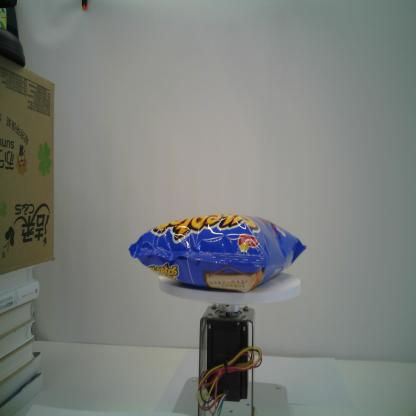Puffed Food: (128, 212, 306, 293)
